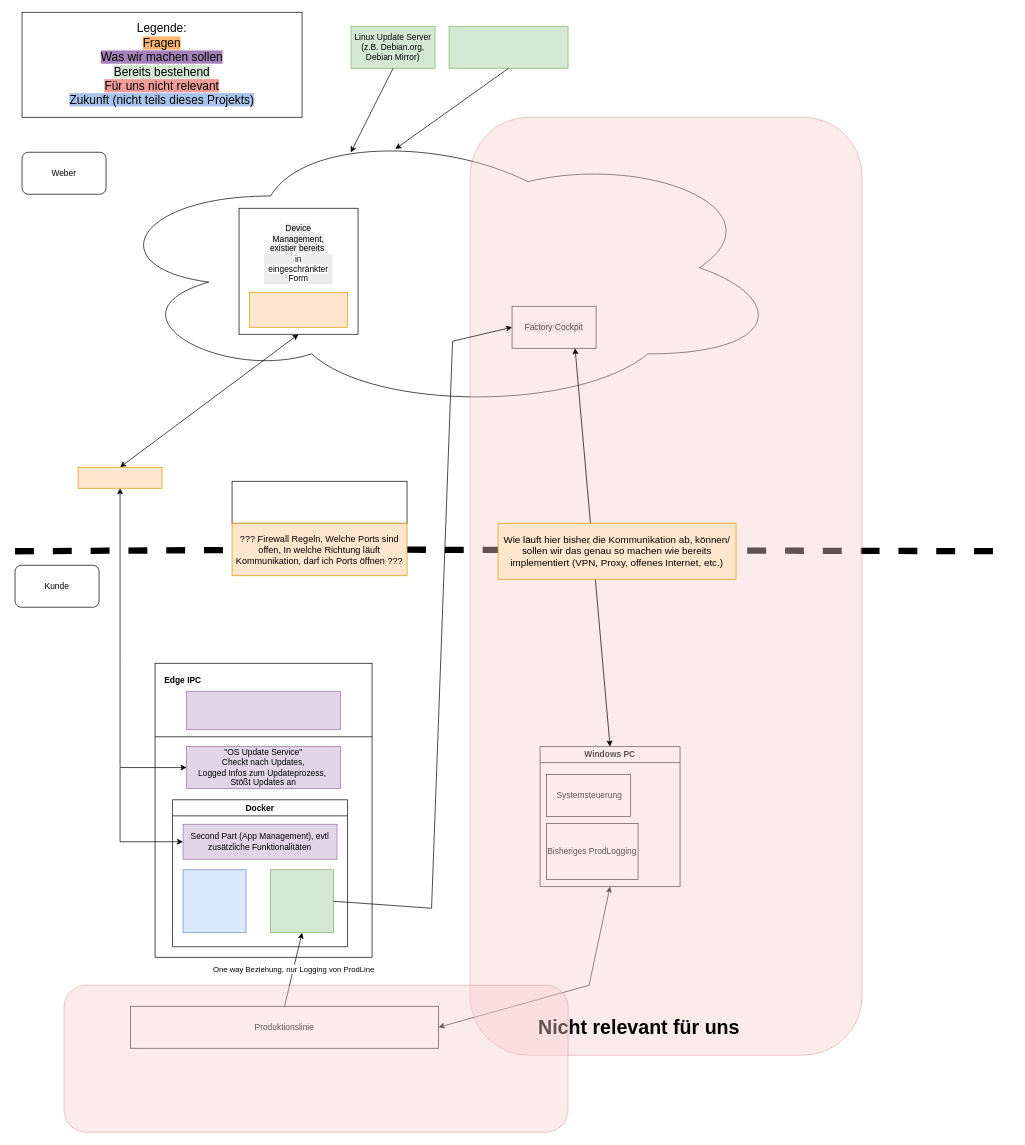
This 1025x1145 diagram has some shape labels left out. The shapes that lost their labels are listed below. From the top down, each one's centre as x and y in pixels, then its label:
At (x=508, y=47): "Application Updates (z.B. Docker Registry)".
At (x=298, y=309): "Was ist hier unser Part ?Was gibt es schon alles ?".
At (x=119, y=477): "Frage nach API für diese Kommunikation".
At (x=319, y=502): "Kunde gibt Weber 1 Domain frei, über die läuft Kommunikation".
At (x=263, y=710): "IPCs mit einer Linux Distro, Zero Downtime Updates".
At (x=214, y=901): "Andere Apps von Weber, Zukunft, nicht teil dieses Projekts".
At (x=302, y=901): "ProdLogging (In Rust, von Weber bereits bestehend)".
